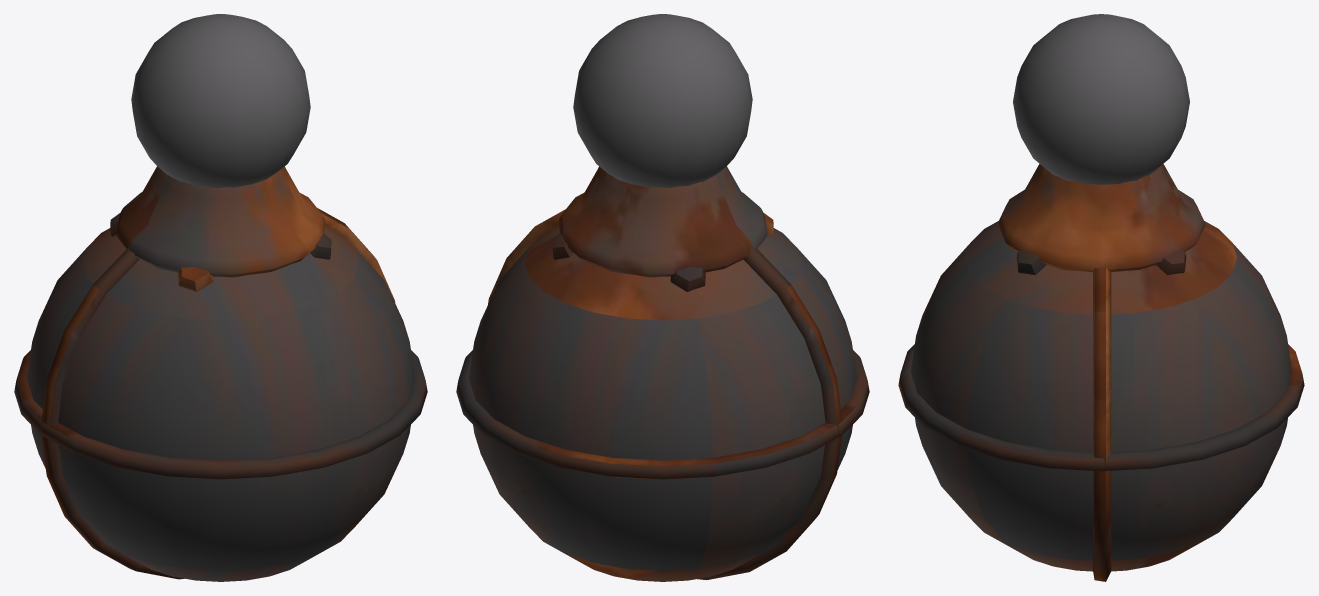
File: Iron_Ball_Fist.glb
The picture shows the model from 3 angles, left to right: view 1: azimuth 30°, elevation 25°; view 2: azimuth 150°, elevation 25°; view 3: azimuth 270°, elevation 25°; orthographic projection.
Parts seen in each view (by area): view 1: Iron_Ball_Fist; view 2: Iron_Ball_Fist; view 3: Iron_Ball_Fist.
Part boxes in pixels (x1,y1,x2,y2): Iron_Ball_Fist: (14, 14, 427, 581); Iron_Ball_Fist: (456, 14, 869, 581); Iron_Ball_Fist: (898, 14, 1304, 581).
Size of the model in its own units: 0.165 by 0.2431 by 0.165.
Materials: 3 (2 with a texture image).
